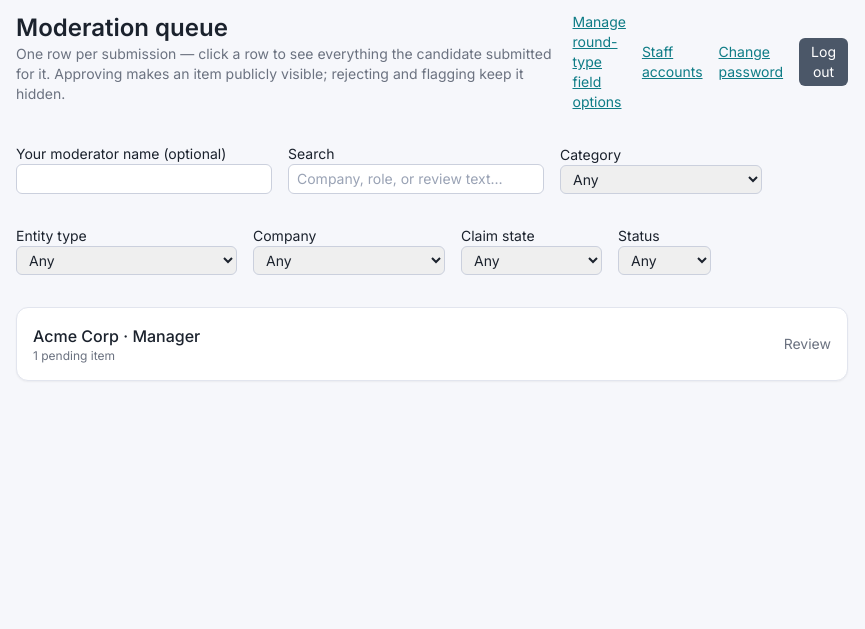
ModerationPage (Phase 14 issue #128; session gating Phase 18 issue #160; grouped-by-submission Phase 29 issue #315) › shows a "Due in" badge, not overdue, for an entry whose deadline is still in the future
The width and height of the screenshot is (865, 629).
Step 1. Click the button "Acme Corp · Manager 1 pending item Review" → [76, 336], box [33,324,831,364]
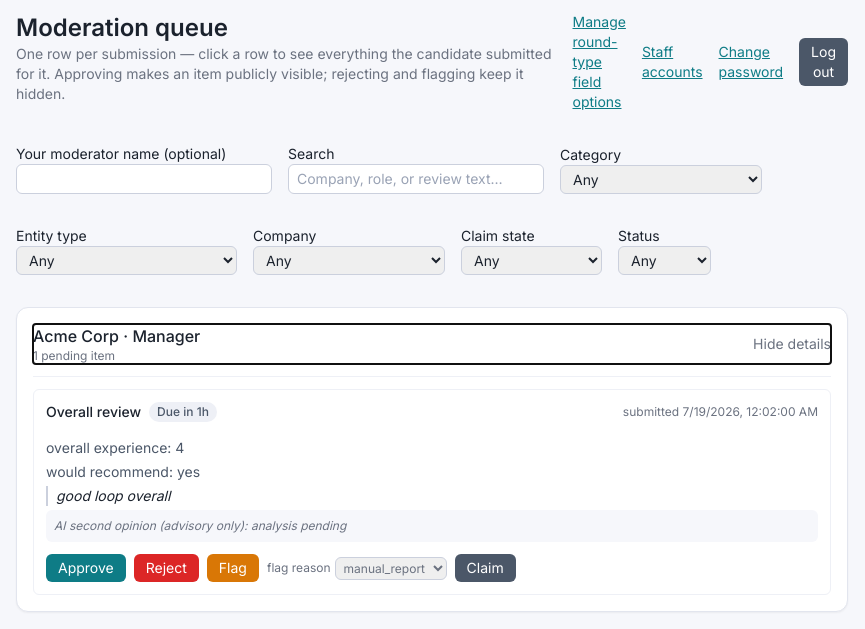
Check: the text "Due in 1h" is shown, box [149,402,217,422]
